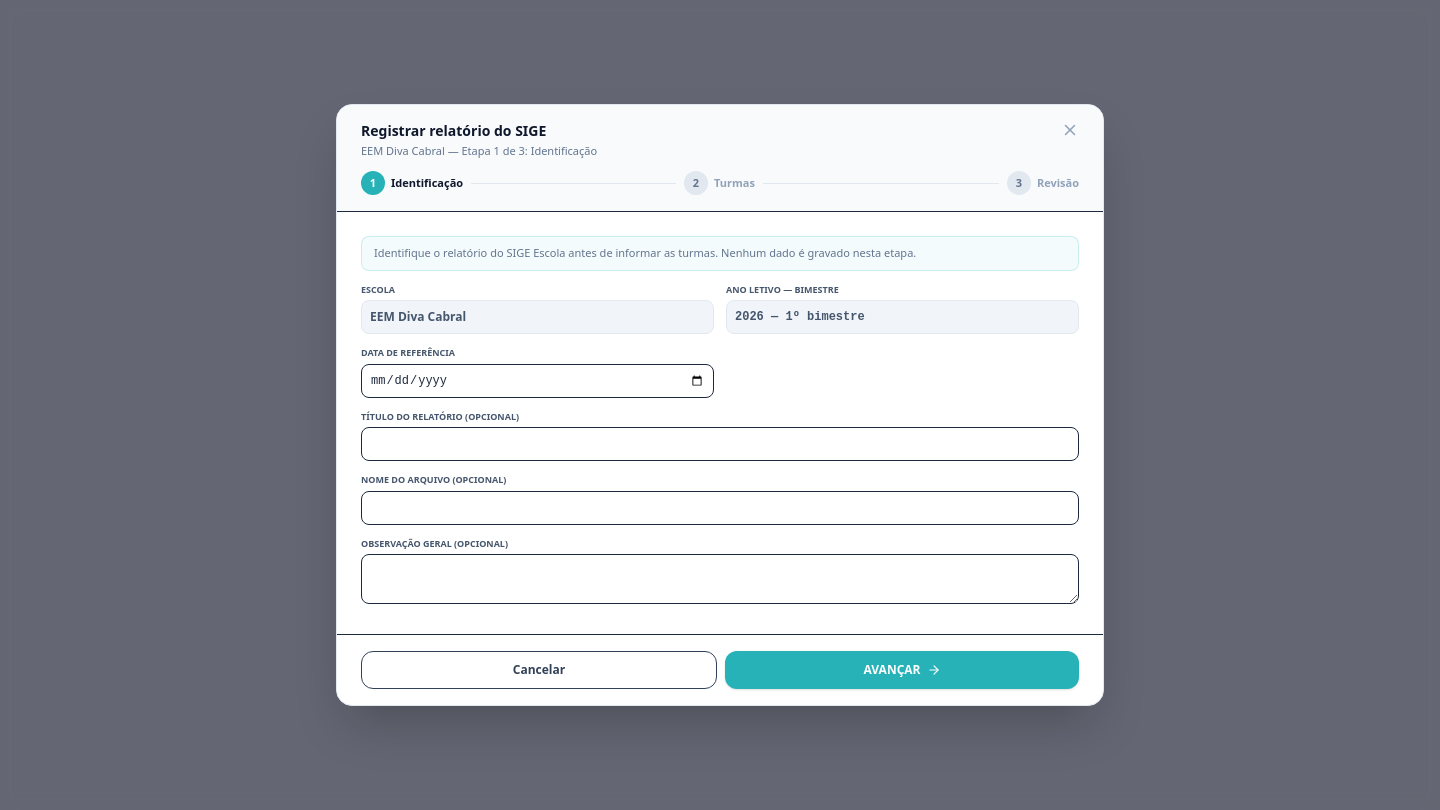
SigeReportModal › fluxo aceita várias turmas — "Adicionar turma" cria uma nova linha independente
Type "2026-03-10" into the date field labelled "Data de referência".
click(538, 381); type("2026-03-10")  # box top-left (361, 364), bottom-right (714, 398)
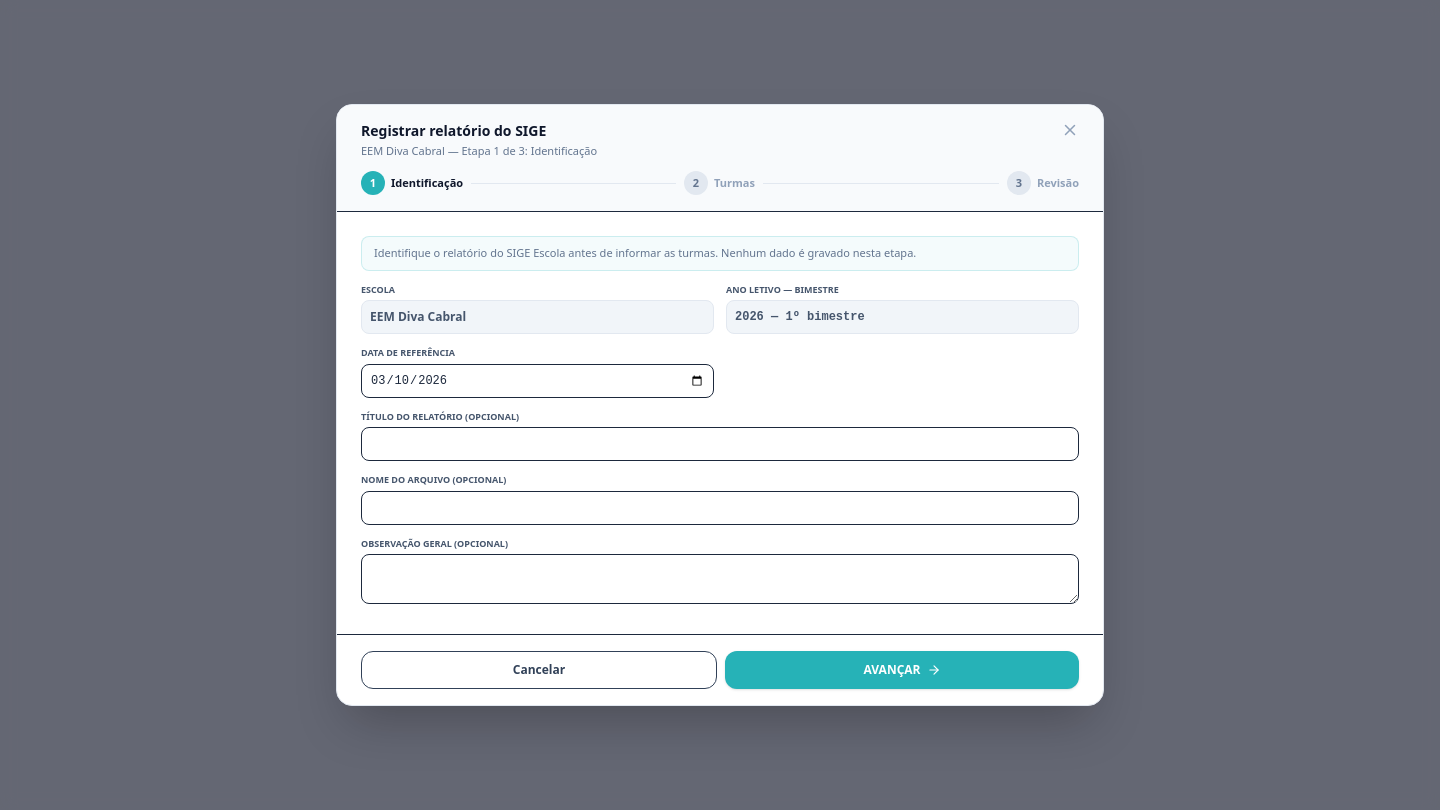
Click the button "Avançar".
click(902, 670)  # box top-left (725, 651), bottom-right (1079, 689)
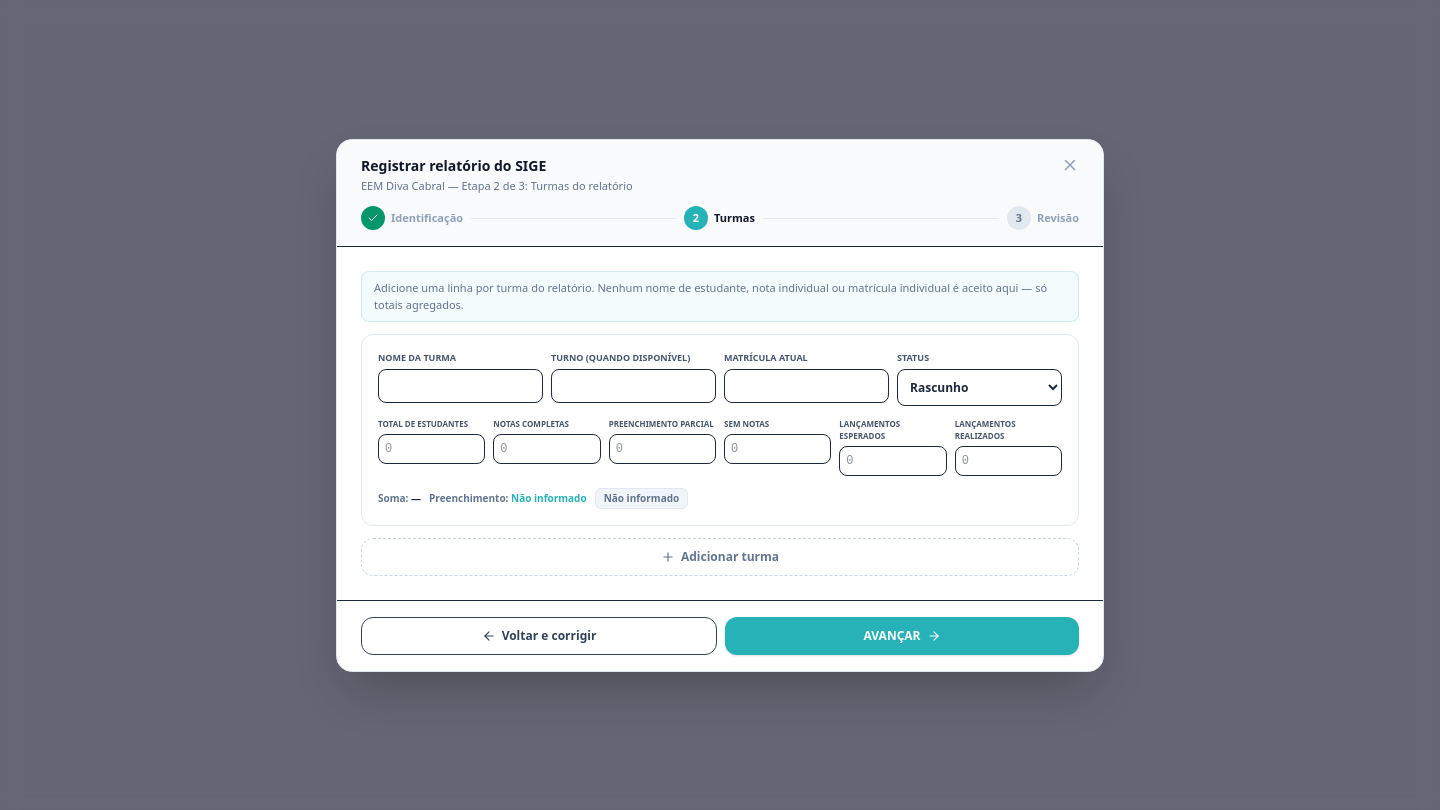
Result: the number of fields labelled "Nome da turma" is 1 at top-left (378, 368), bottom-right (543, 402)
Click the button "Adicionar turma".
click(720, 556)  # box top-left (361, 538), bottom-right (1079, 576)
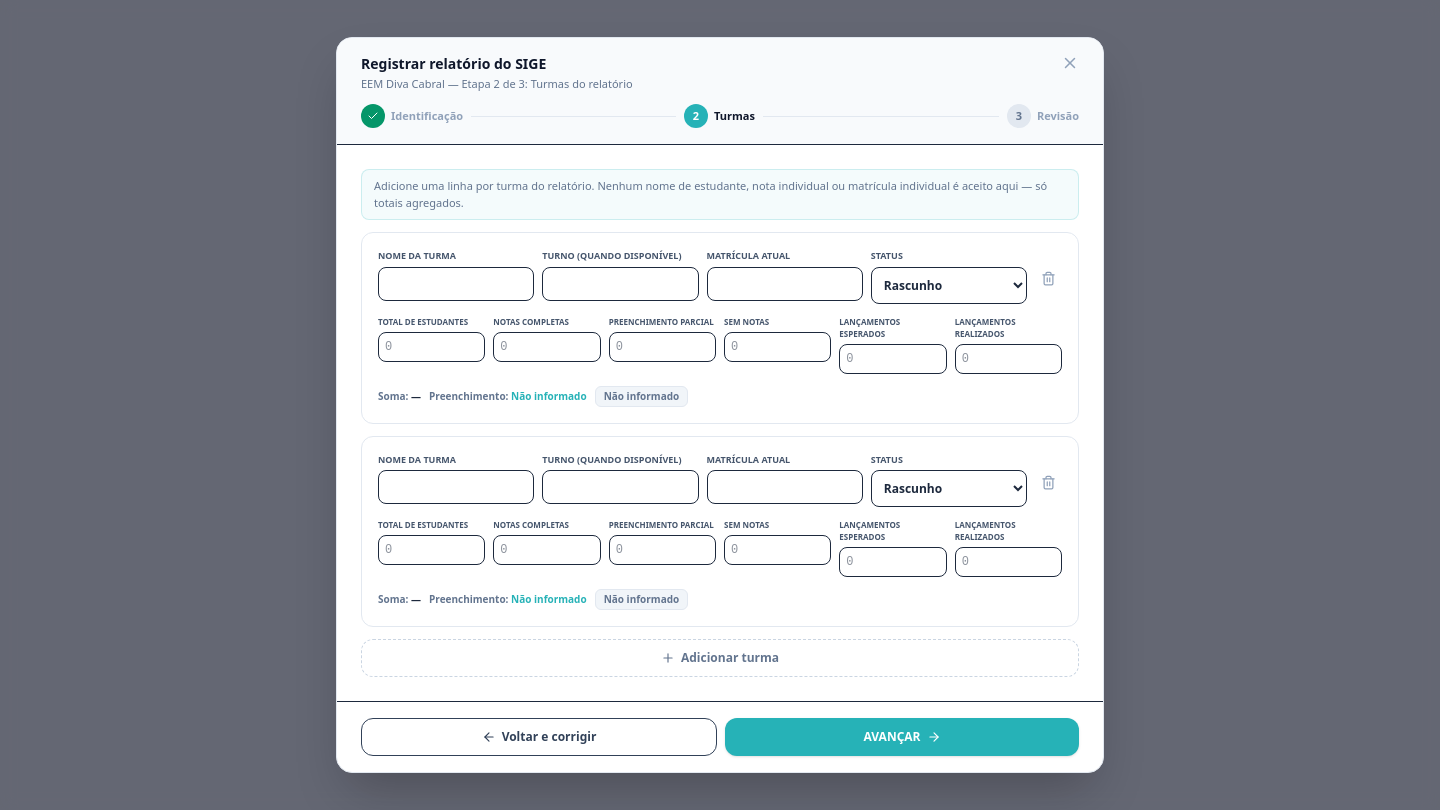
Result: the number of fields labelled "Nome da turma" is 2 at top-left (378, 267), bottom-right (534, 301); top-left (378, 470), bottom-right (534, 504)
